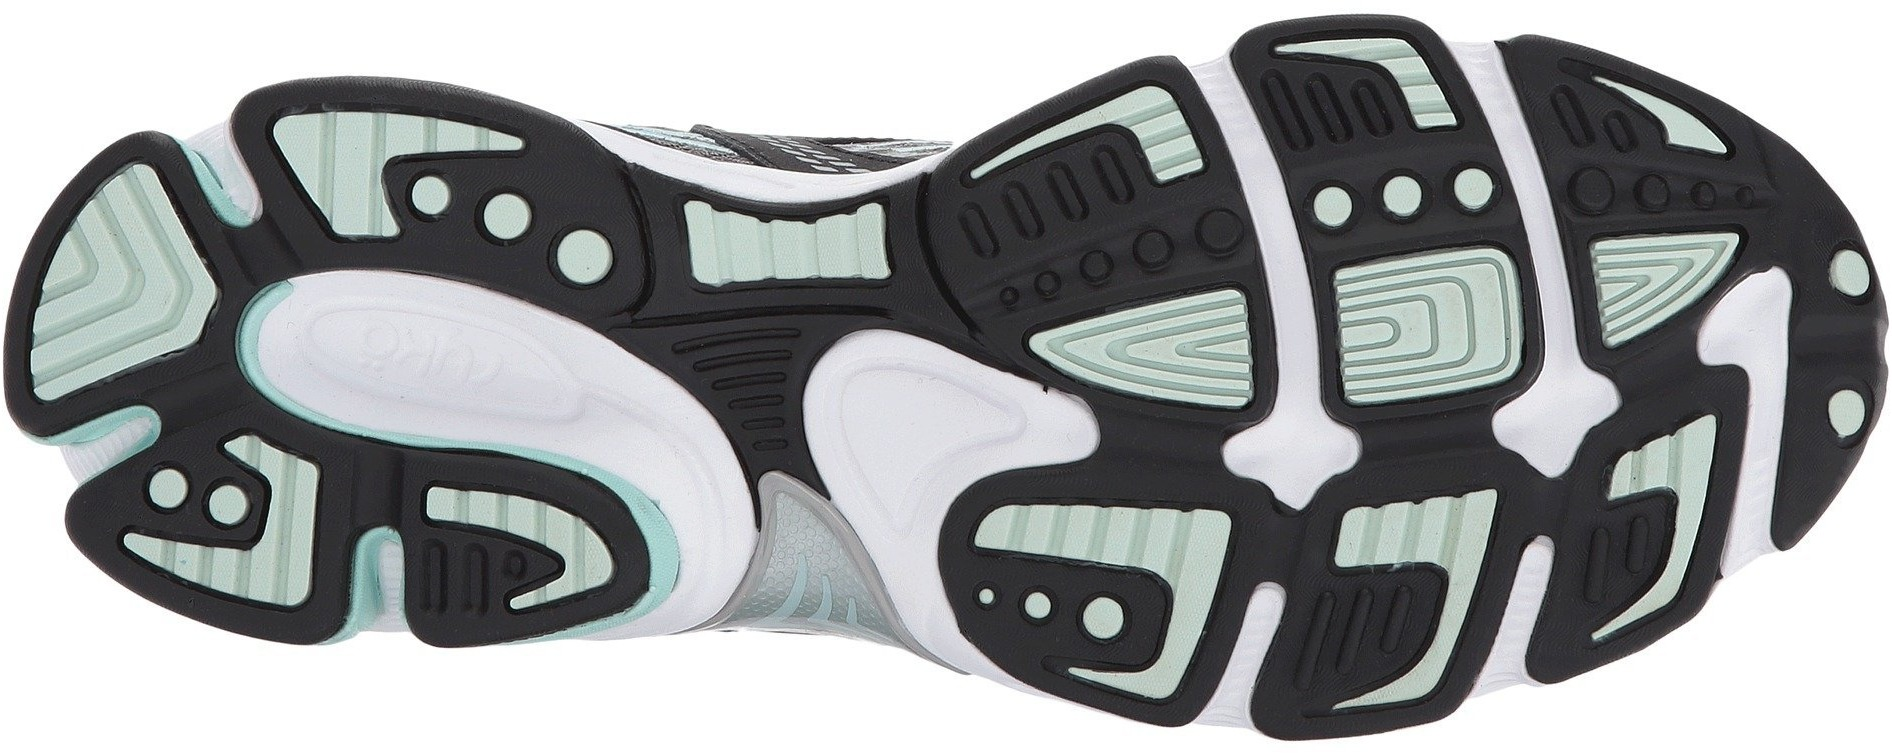chevron: (24, 208, 216, 392), (426, 461, 592, 620), (1287, 22, 1450, 165)
circle: (475, 176, 615, 303), (132, 437, 262, 566), (1366, 158, 1441, 229), (1442, 152, 1511, 222), (1300, 174, 1367, 239)
quad: (1275, 478, 1513, 693), (1326, 224, 1531, 418), (1576, 409, 1733, 573)
ribbon: (577, 368, 748, 537)
text: (348, 300, 438, 383), (432, 327, 514, 407)
triangle: (1020, 247, 1261, 469), (795, 329, 1023, 545), (1573, 222, 1748, 385)
